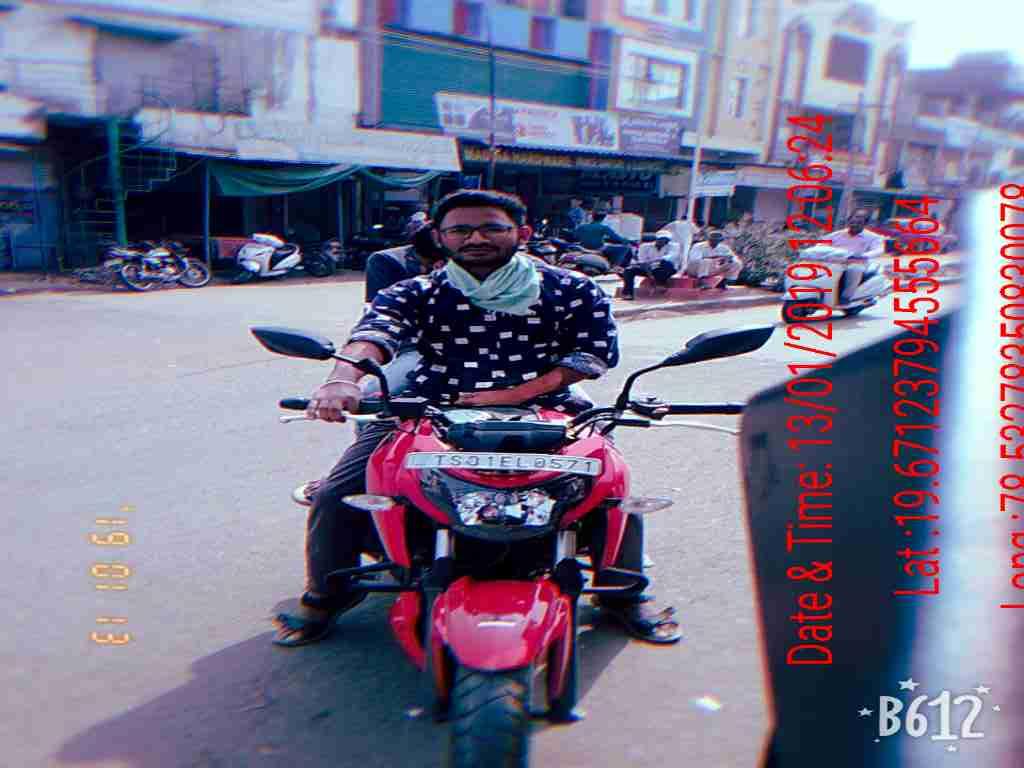plate: (402, 448, 606, 484)
